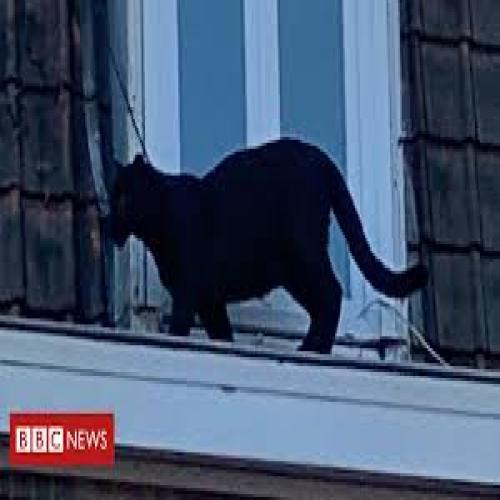panther-endangered: (105, 136, 425, 355)
